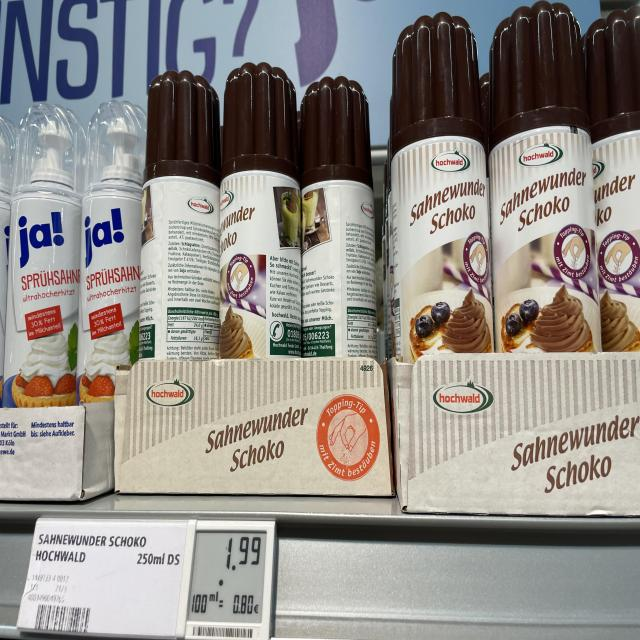cream: (3, 103, 85, 407), (77, 101, 146, 403), (0, 116, 16, 406)
